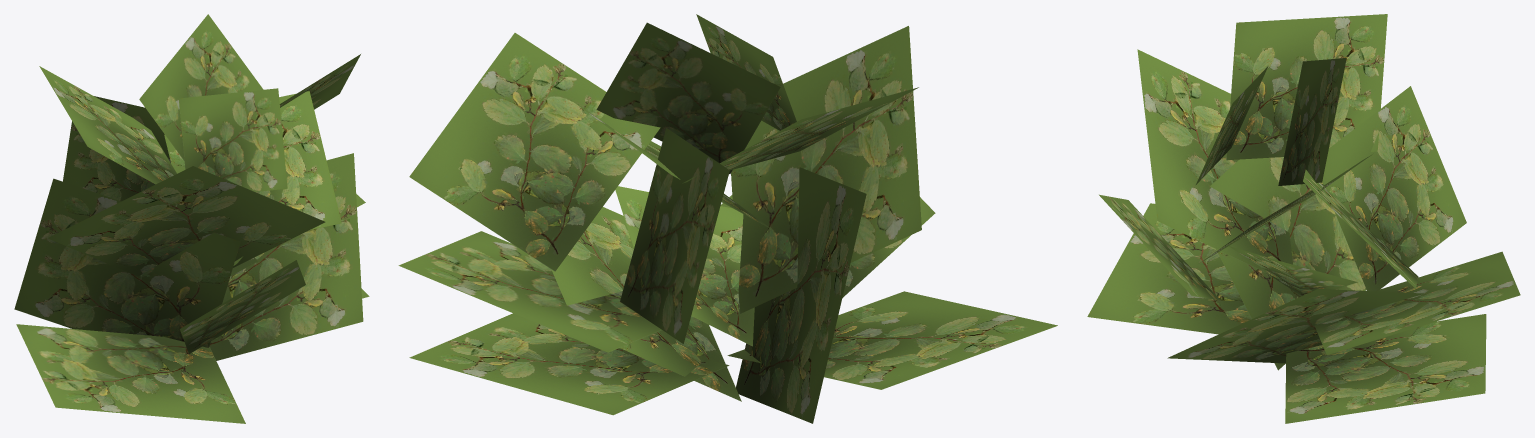
The model's file is bush07_lod02.FBX.
3 renders of one model, left to right at view 1: azimuth 30°, elevation 25°; view 2: azimuth 150°, elevation 25°; view 3: azimuth 270°, elevation 25°, orthographic. The views are drawn at different scales.
Parts seen in each view (by area): view 1: bush07_lod02; view 2: bush07_lod02; view 3: bush07_lod02.
Boxes of the visible parts, x1,y1,x2,y2 form: bush07_lod02: [14, 14, 369, 423]; bush07_lod02: [398, 14, 1057, 423]; bush07_lod02: [1087, 14, 1520, 423].
Bounding box in the file's own units: 118 × 88.71 × 105.
Materials: 1 (1 with a texture image).
